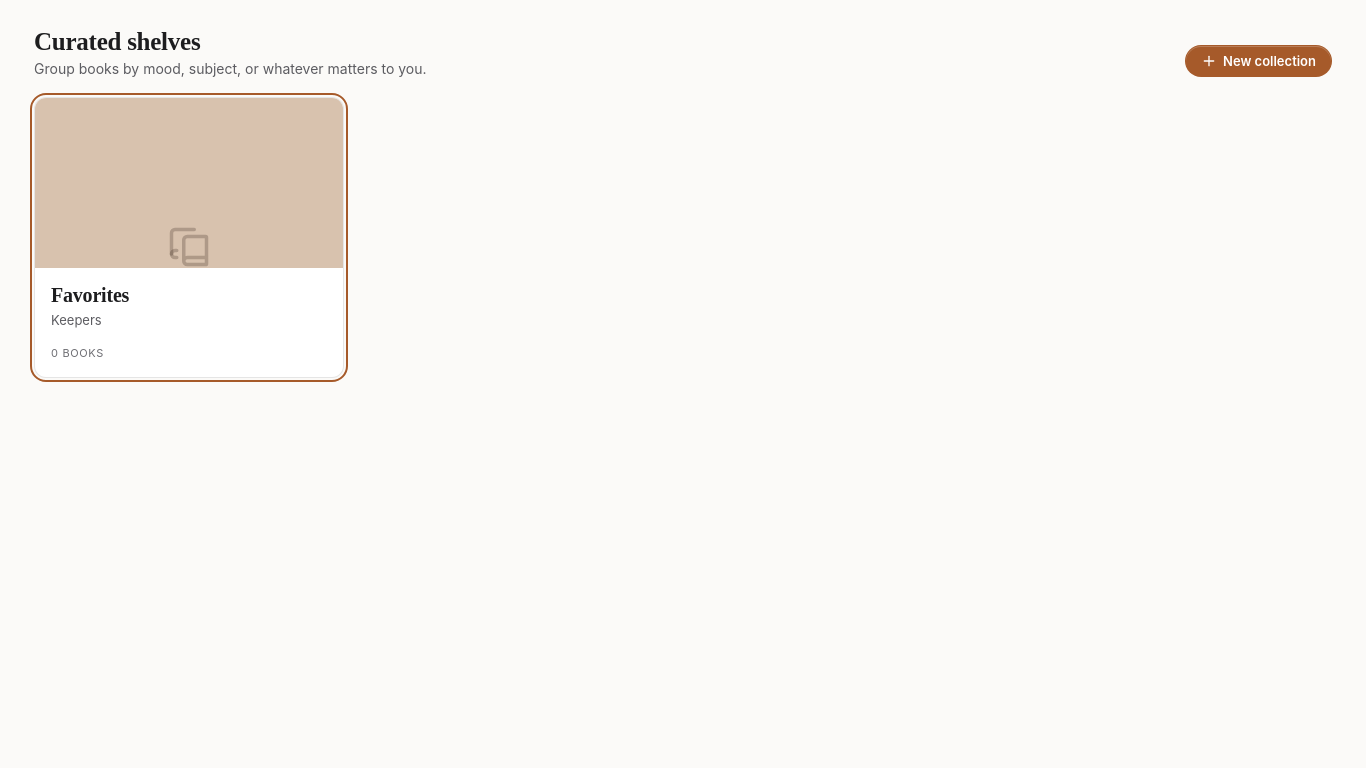
Test: dialog keyboard boundaries › only closes the top collection layer and restores the lower layer action
Press Enter in the button with aria-label "Open Favorites", box [34,97,344,378]
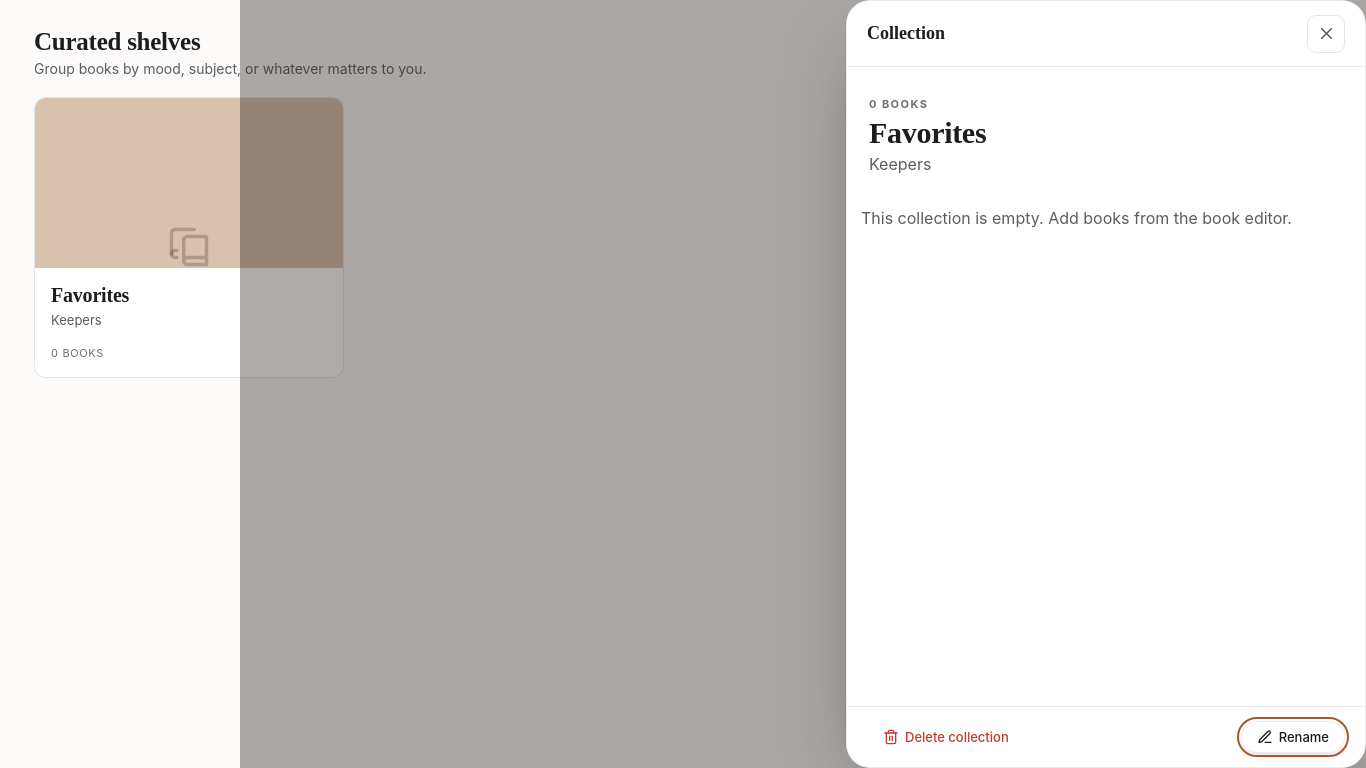
Click the button "Rename". click: [1293, 737]
box: [1241,721,1345,753]
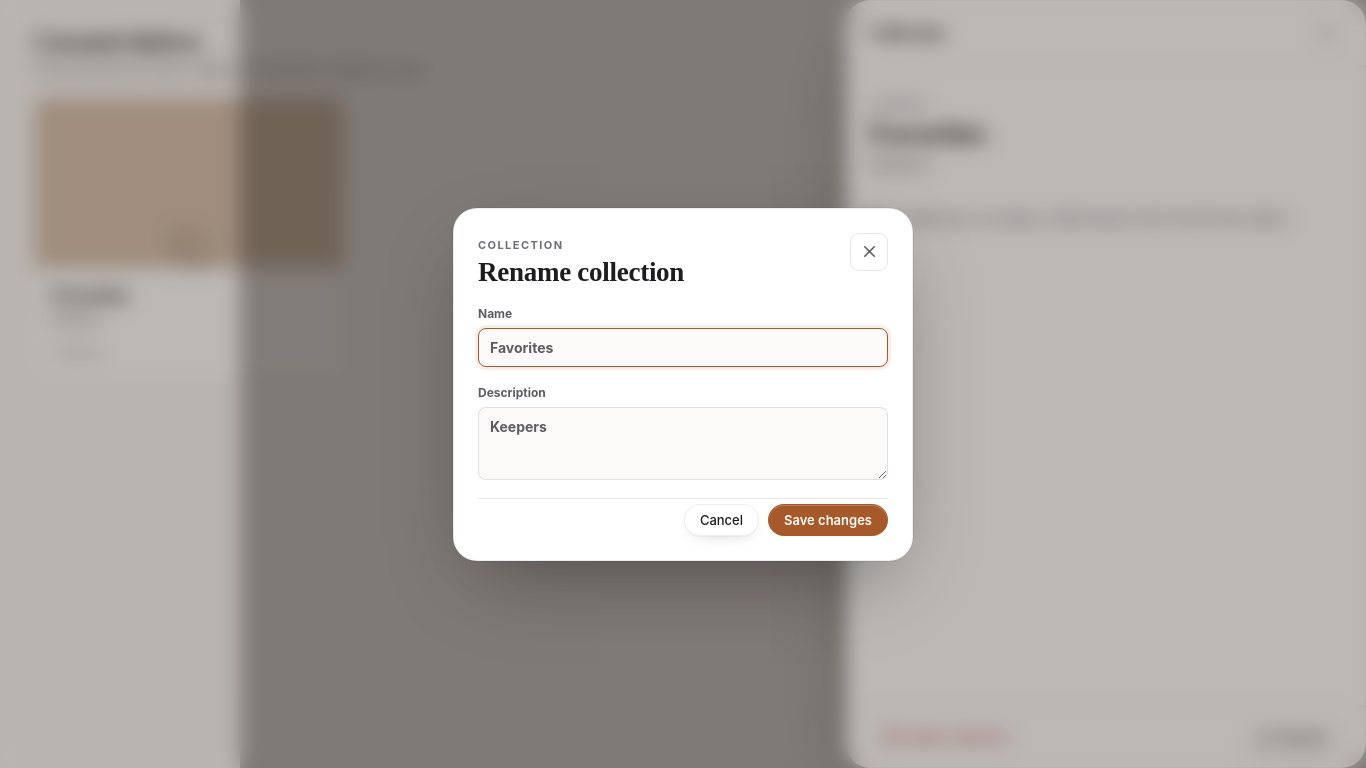
Check: the dialog "Rename collection" is shown
Press Escape in the field labelled "Name", box [478,328,888,366]
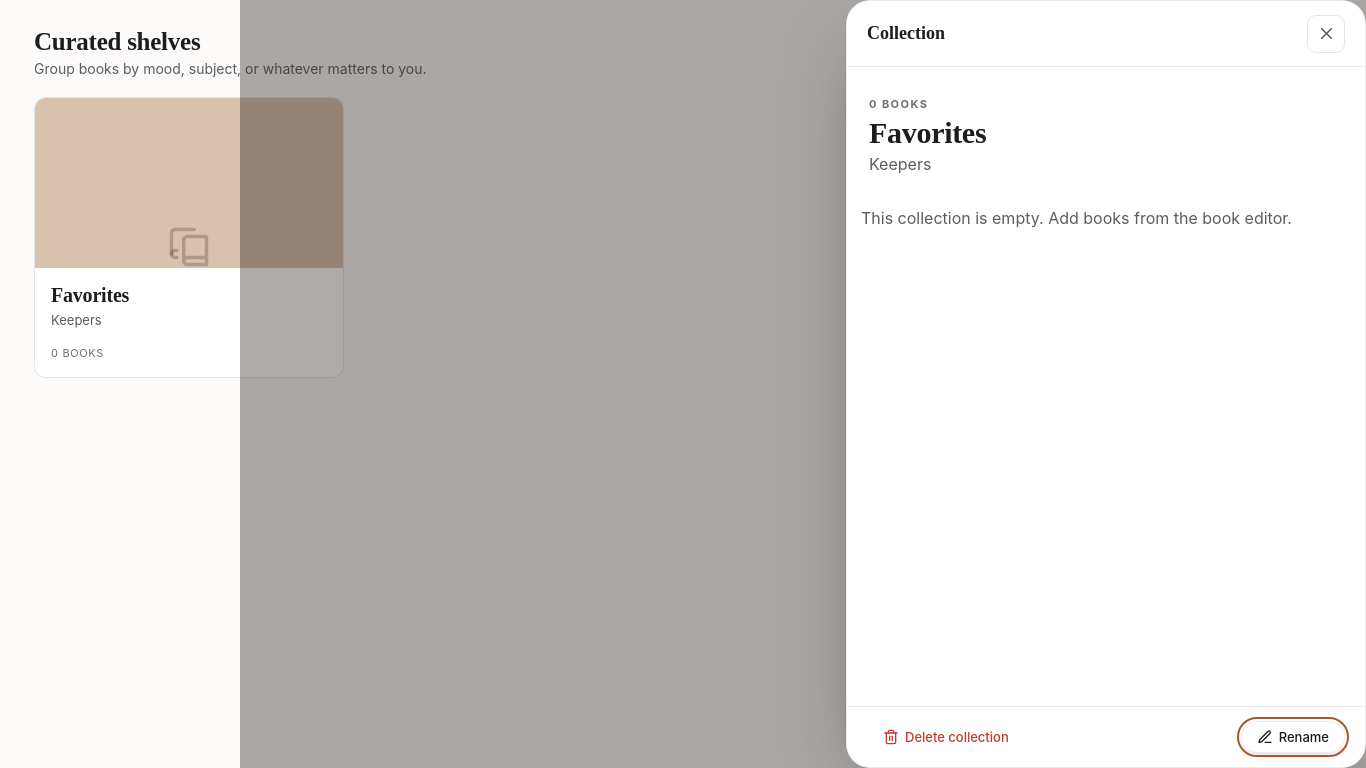
Check: the dialog named "Collection details" is shown, box [846,0,1365,767]
Check: the heading "Rename collection" is gone
Press Escape in the button "Rename", box [1241,721,1345,753]
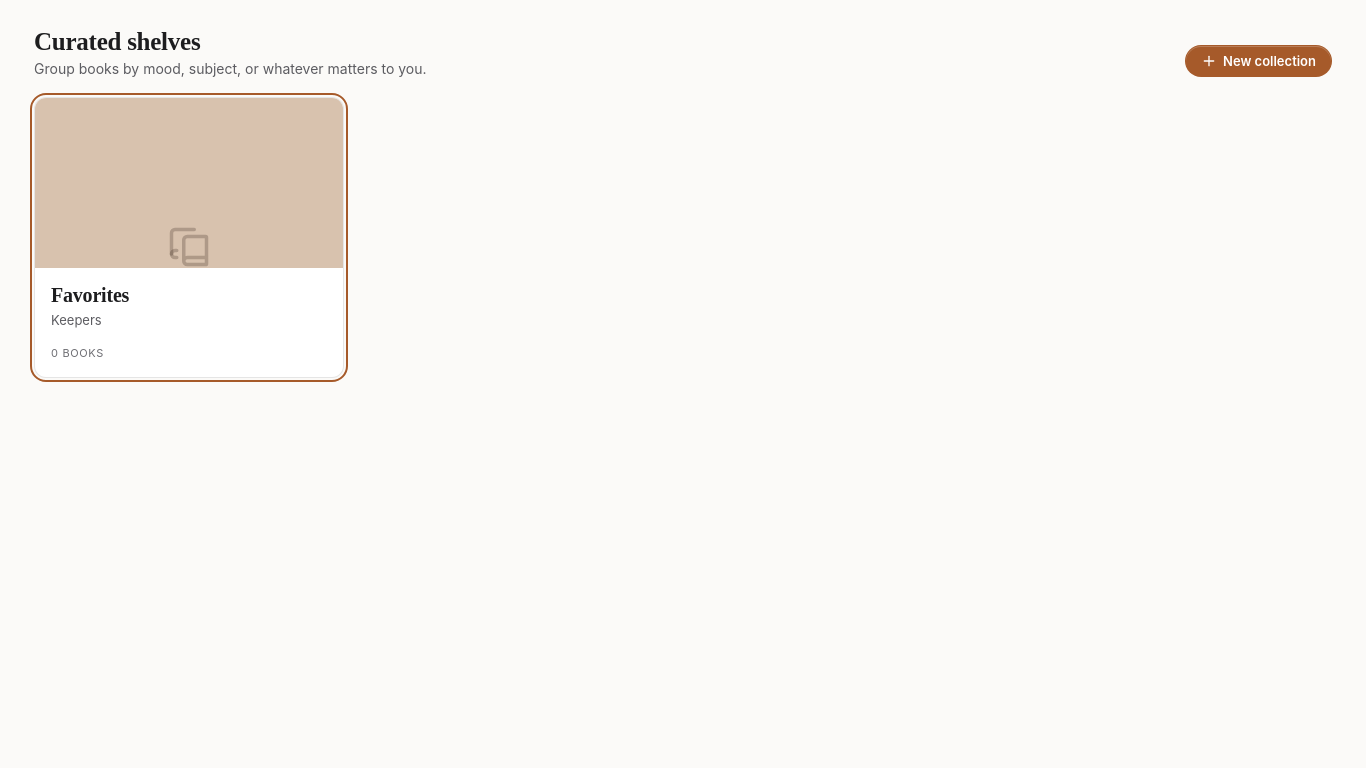
Check: the dialog is gone
